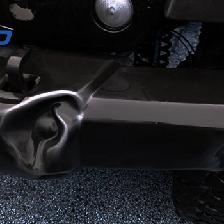dent: (0, 6, 203, 194)
